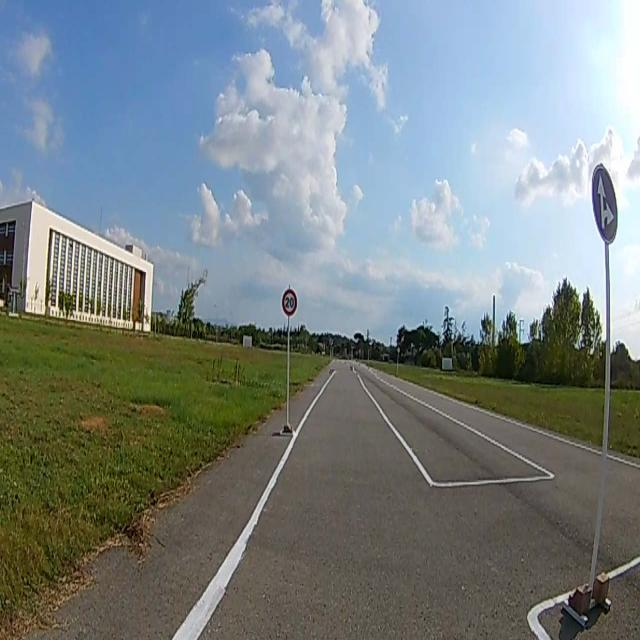20: (283, 290, 297, 316)
ilerisag: (591, 164, 619, 241)
